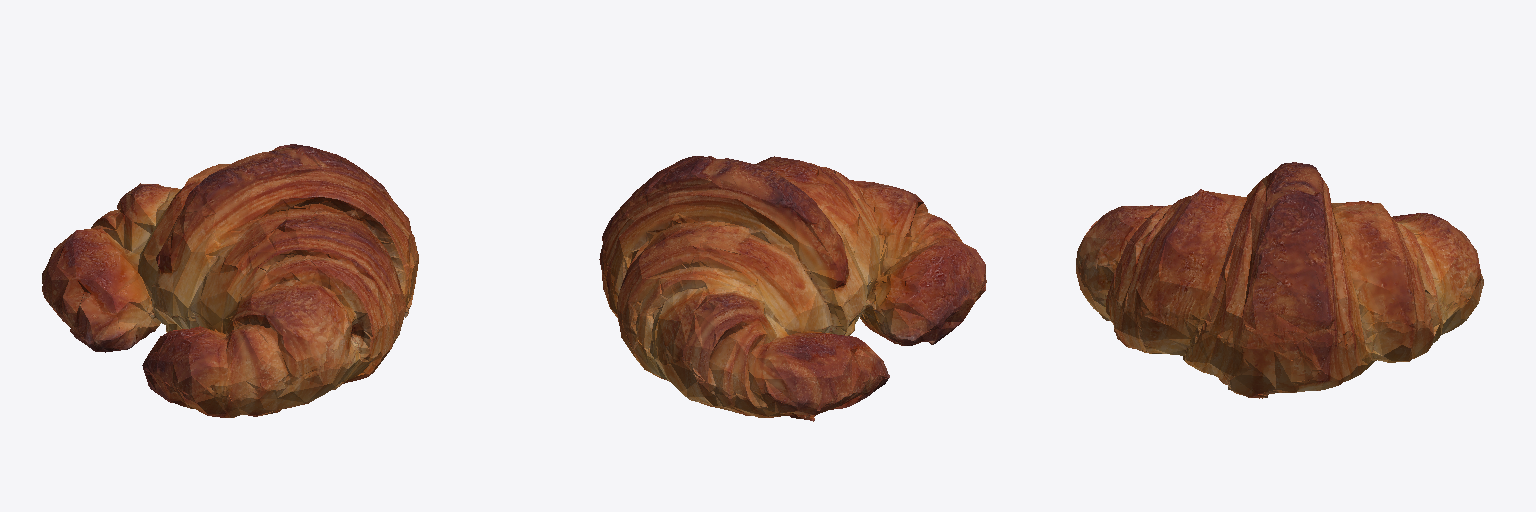
3 views of the same model, side by side, from view 1: azimuth 30°, elevation 25°; view 2: azimuth 150°, elevation 25°; view 3: azimuth 270°, elevation 25° (orthographic).
Visible parts, largest first — view 1: poly10kGEO; view 2: poly10kGEO; view 3: poly10kGEO.
Boxes of the visible parts, box(x1,y1,x2,y2) form: poly10kGEO: box(42, 144, 418, 417); poly10kGEO: box(599, 156, 986, 421); poly10kGEO: box(1076, 162, 1483, 398).
Size of the model in its own units: 22.28 by 12.95 by 26.61.
1 materials, 1 textured.